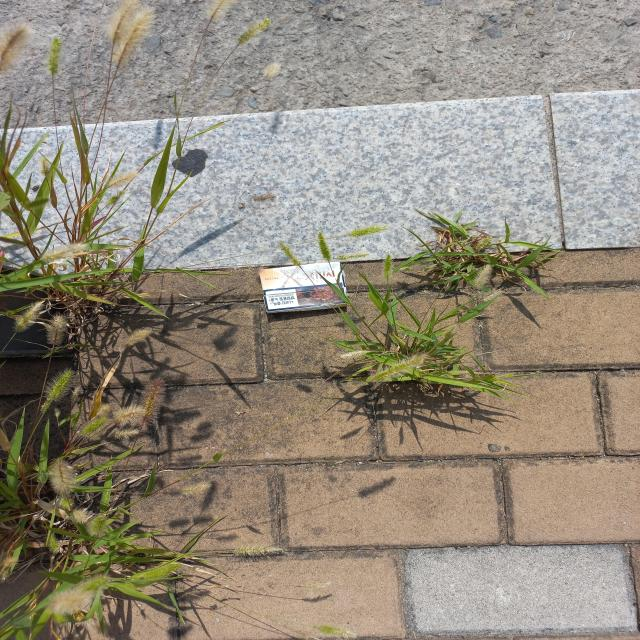litter: (259, 262, 347, 313)
